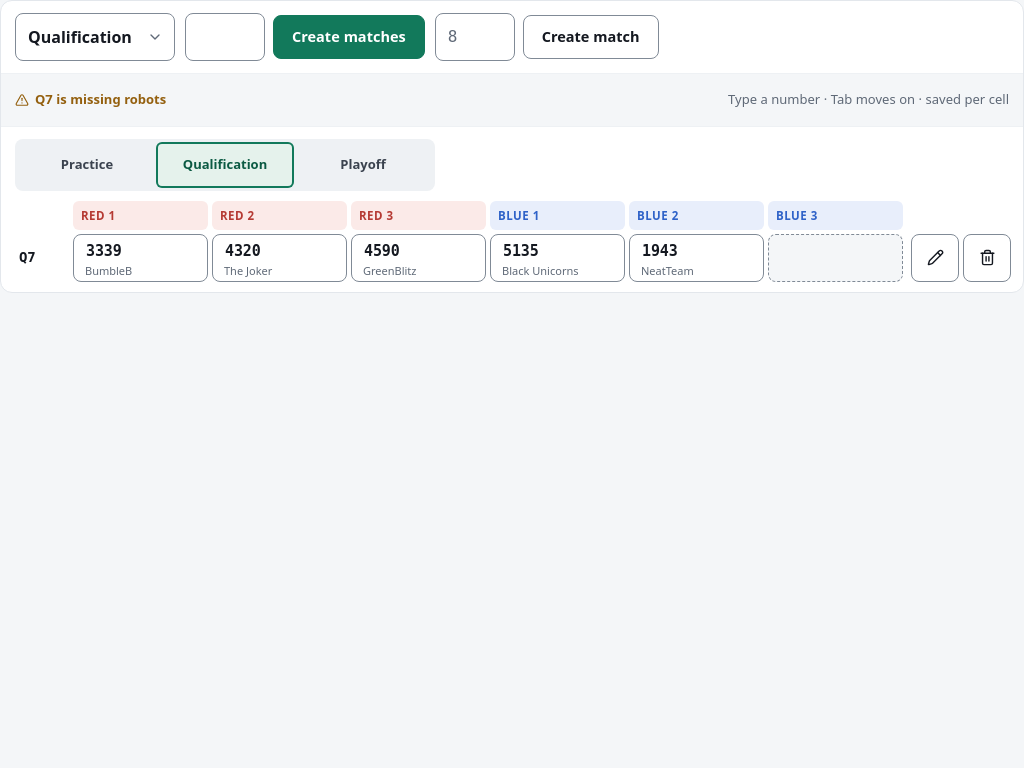
Test: MatchesPanel › shows the server message when a match with entries cannot be deleted
The width and height of the screenshot is (1024, 768).
What coordinates should you click on to do the following:
click the button named "Delete match 7 (qualification)"
I would click on:
 (987, 258)
Its box is x1=963 y1=234 x2=1011 y2=282.
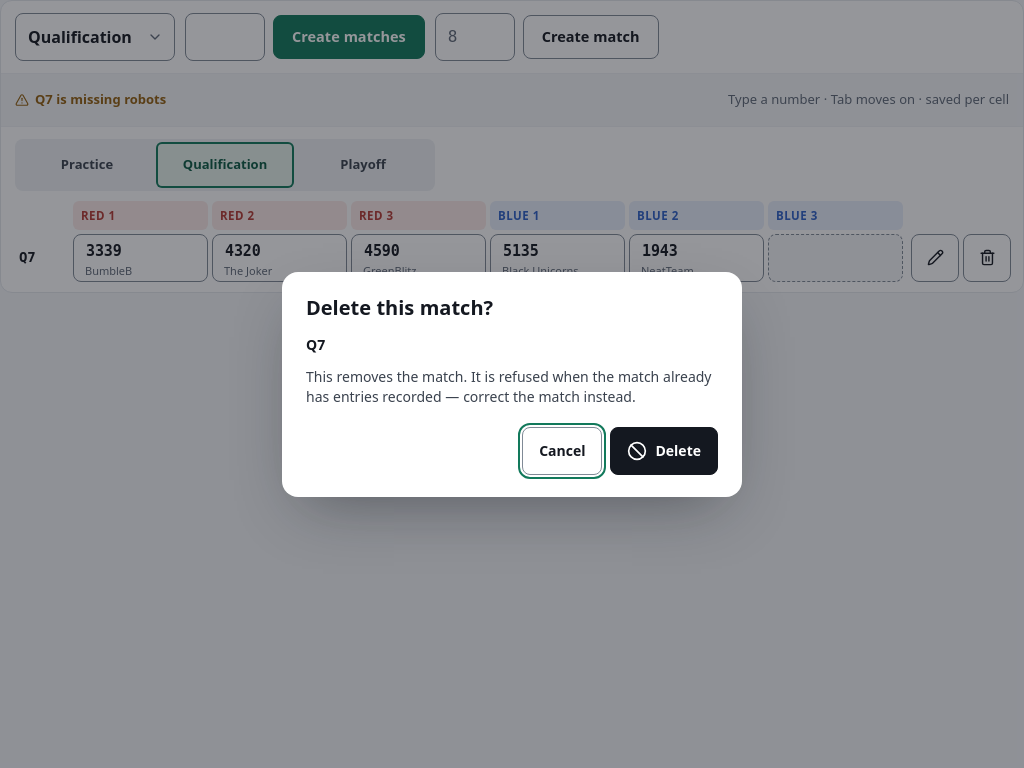
Now the dialog "Delete this match?" shows "Q7", box x1=306 y1=334 x2=325 y2=354
What coordinates should you click on to do the following:
click the button "Delete"
I would click on:
 (664, 450)
Its box is x1=610 y1=426 x2=718 y2=474.
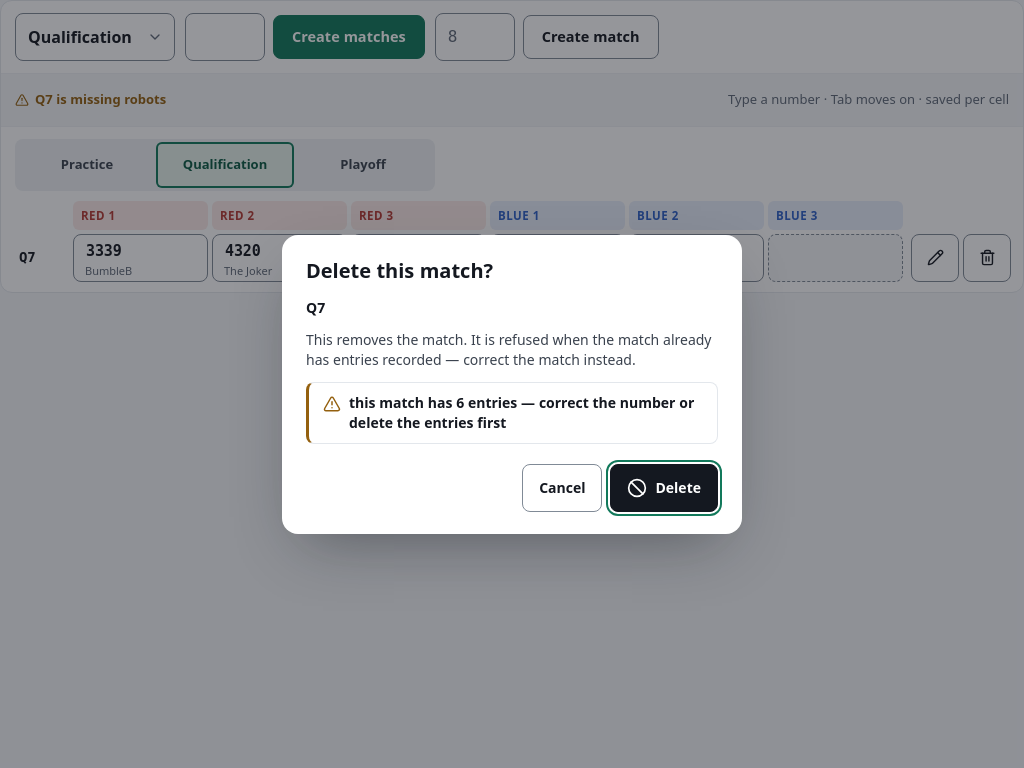
Now the message shows "has 6 entries", box x1=349 y1=392 x2=694 y2=432
